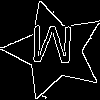M: (29, 25, 75, 73)
